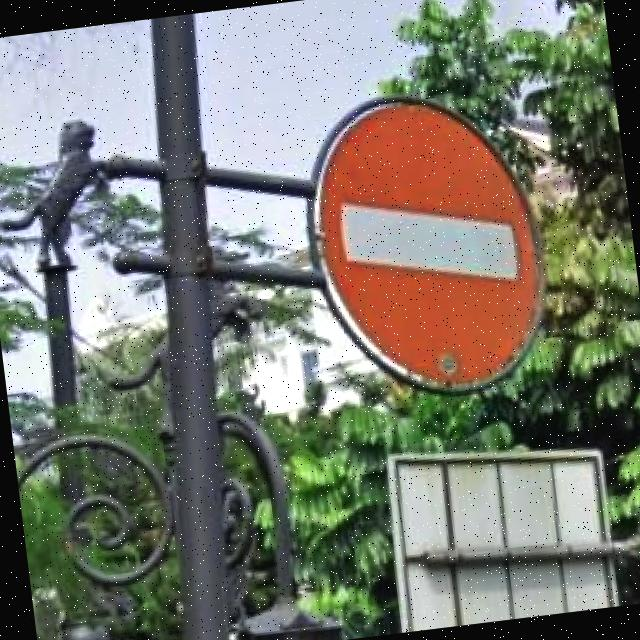Zakaz wjazdu: (308, 89, 554, 403)
